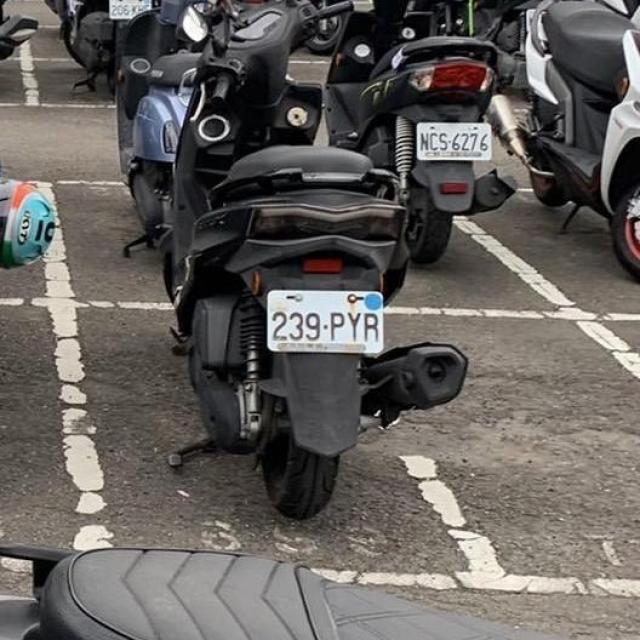W: (265, 287, 385, 357), (416, 121, 495, 165)
